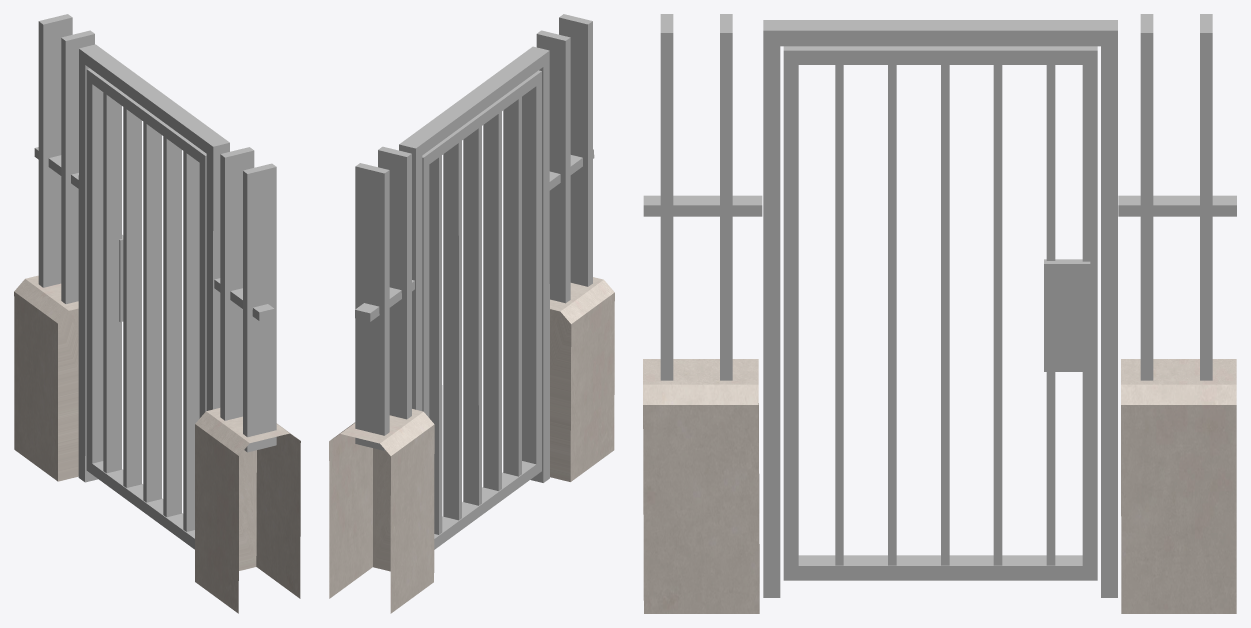
Rendered from SM_Park_Fence_04_b.fbx.
The picture shows the model from 3 angles, left to right: view 1: azimuth 30°, elevation 25°; view 2: azimuth 150°, elevation 25°; view 3: azimuth 270°, elevation 25°; orthographic projection. The views are drawn at different scales.
Parts seen in each view (by area): view 1: SM_Park_Fence_04_b_LOD0; view 2: SM_Park_Fence_04_b_LOD0; view 3: SM_Park_Fence_04_b_LOD0.
Part boxes in pixels (<box>): SM_Park_Fence_04_b_LOD0: <box>14,14,300,613</box>; SM_Park_Fence_04_b_LOD0: <box>329,14,614,613</box>; SM_Park_Fence_04_b_LOD0: <box>643,14,1236,613</box>.
Size of what is drawn, in the model's own units: 0.3186 by 2.12 by 2.
